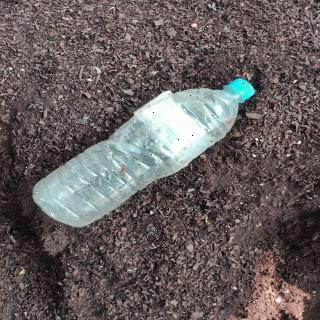Plastic-bottle: (29, 74, 264, 233)
